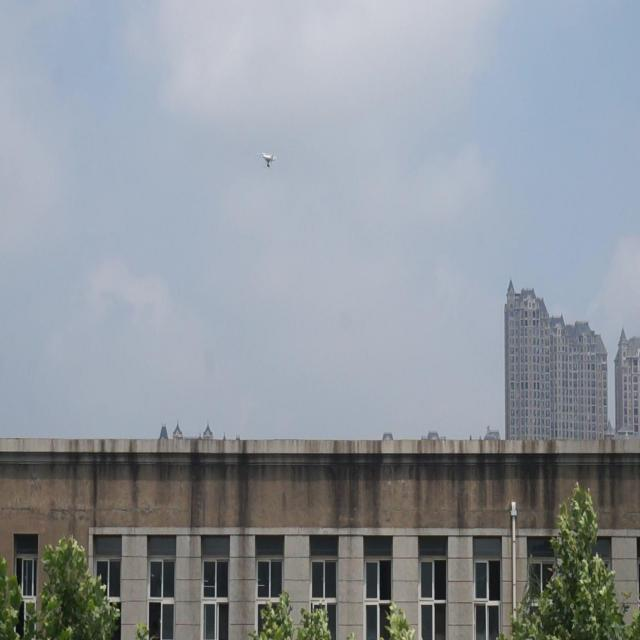UAV: (258, 152, 277, 170)
